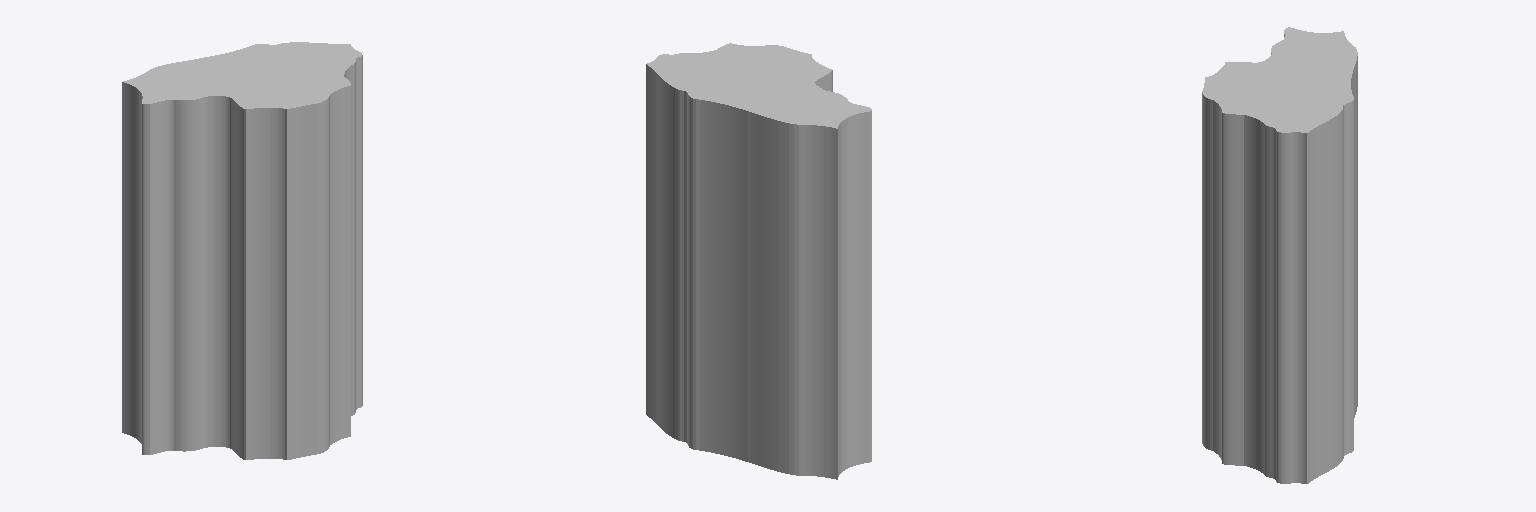
3 views of the same model, side by side, from view 1: azimuth 30°, elevation 25°; view 2: azimuth 150°, elevation 25°; view 3: azimuth 270°, elevation 25° (orthographic).
Parts seen in each view (by area): view 1: LT_CUCurve.1506; view 2: LT_CUCurve.1506; view 3: LT_CUCurve.1506.
Boxes of the visible parts, <box> form: LT_CUCurve.1506: <box>122,42,362,459</box>; LT_CUCurve.1506: <box>646,43,871,479</box>; LT_CUCurve.1506: <box>1202,27,1357,483</box>.
Size of the model in its own units: 0.0325 by 0.05 by 0.02.